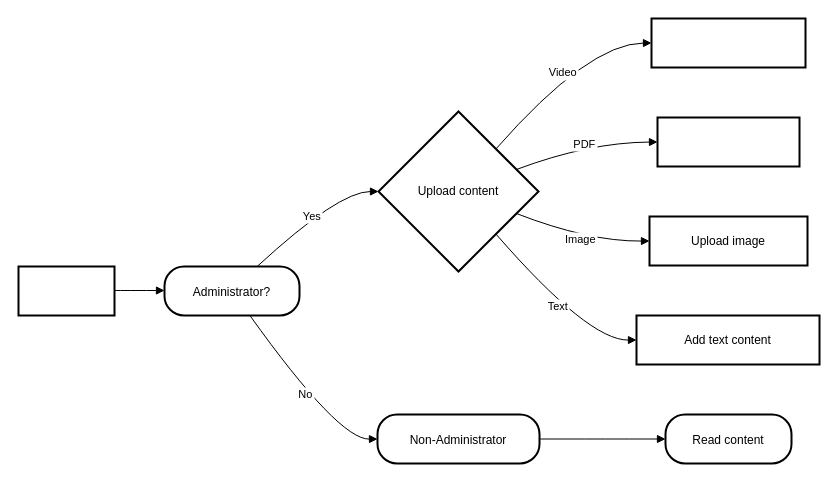
Image size: 837x481. Some labels were removed from this diagram. The shapes that lost their labels are listed below. From the top down, each one's box as (x1, y1, x2, y2) in pixels, then its label:
(650, 17, 806, 68): Upload video
(656, 116, 800, 167): Upload PDF
(17, 265, 115, 316): Start
